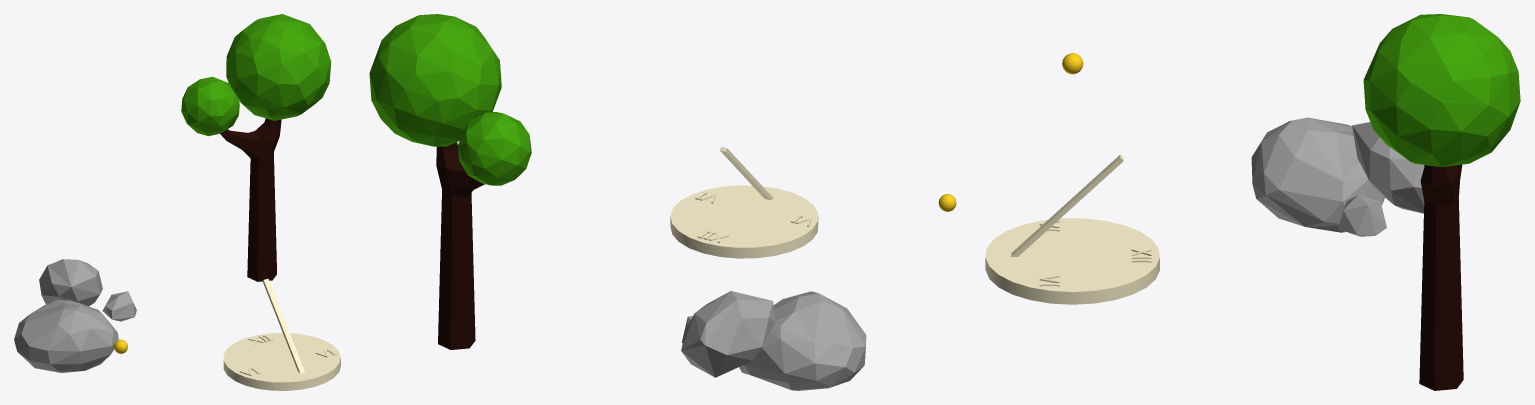
3 renders of one model, left to right at view 1: azimuth 30°, elevation 25°; view 2: azimuth 150°, elevation 25°; view 3: azimuth 270°, elevation 25°, orthographic. The views are drawn at different scales.
Visible parts, largest first — view 1: Icosphere_Icosphere_002, MoText_2, Sphere_2, Cylinder_014, Icosphere_001_Icosphere_003, Sphere_001, Icosphere_001; view 2: Icosphere_Icosphere_002, MoText_2, Sphere_2, Cylinder_014, Sphere_001, Icosphere_001_Icosphere_003; view 3: Icosphere_Icosphere_002, MoText_2, Sphere_2, Cylinder_014, Sphere_001, Icosphere_001.
Boxes of the visible parts, x1,y1,x2,y2 form: Icosphere_Icosphere_002: (226, 14, 331, 120); MoText_2: (223, 278, 340, 390); Sphere_2: (14, 300, 118, 372); Cylinder_014: (220, 118, 281, 281); Icosphere_001_Icosphere_003: (181, 76, 239, 136); Sphere_001: (39, 259, 102, 306); Icosphere_001: (102, 291, 136, 321); Icosphere_Icosphere_002: (369, 14, 501, 146); MoText_2: (670, 146, 818, 258); Sphere_2: (739, 291, 866, 390); Cylinder_014: (436, 142, 484, 349); Sphere_001: (681, 291, 775, 377); Icosphere_001_Icosphere_003: (458, 112, 531, 185); Icosphere_Icosphere_002: (1363, 14, 1520, 167); MoText_2: (985, 154, 1159, 304); Sphere_2: (1251, 117, 1384, 232); Cylinder_014: (1419, 164, 1463, 390); Sphere_001: (1352, 122, 1424, 213); Icosphere_001: (1338, 195, 1386, 236).
Size of the model in its own units: 336 by 240 by 306.
